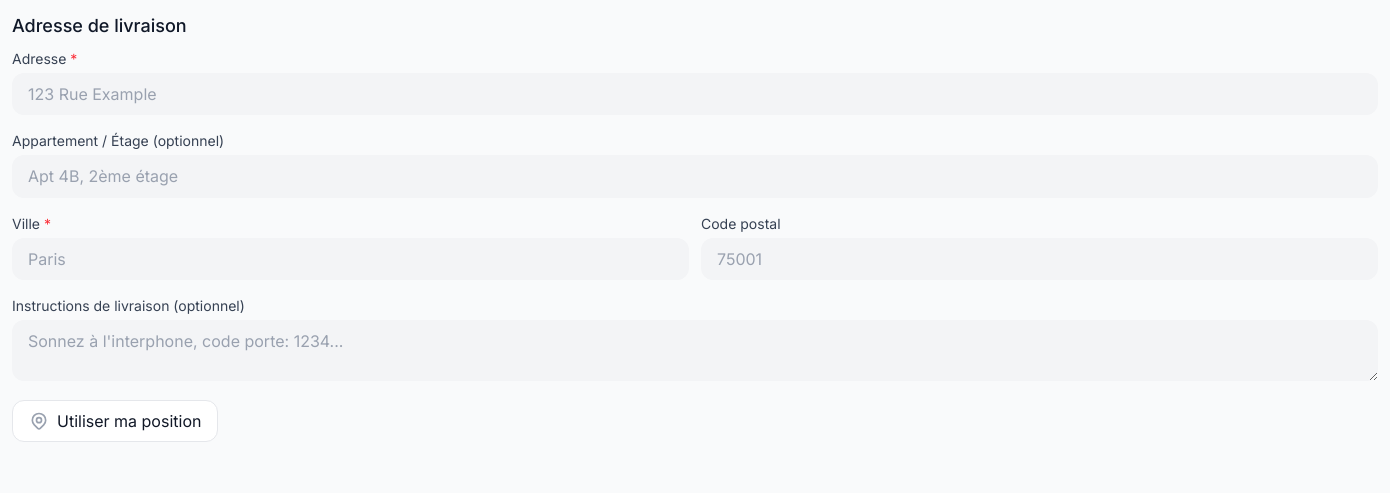
DeliveryAddressForm › geolocation › shows error when geolocation not supported
The image size is (1390, 493).
Click the button "Utiliser ma position": (115, 421) [12,400,218,442]
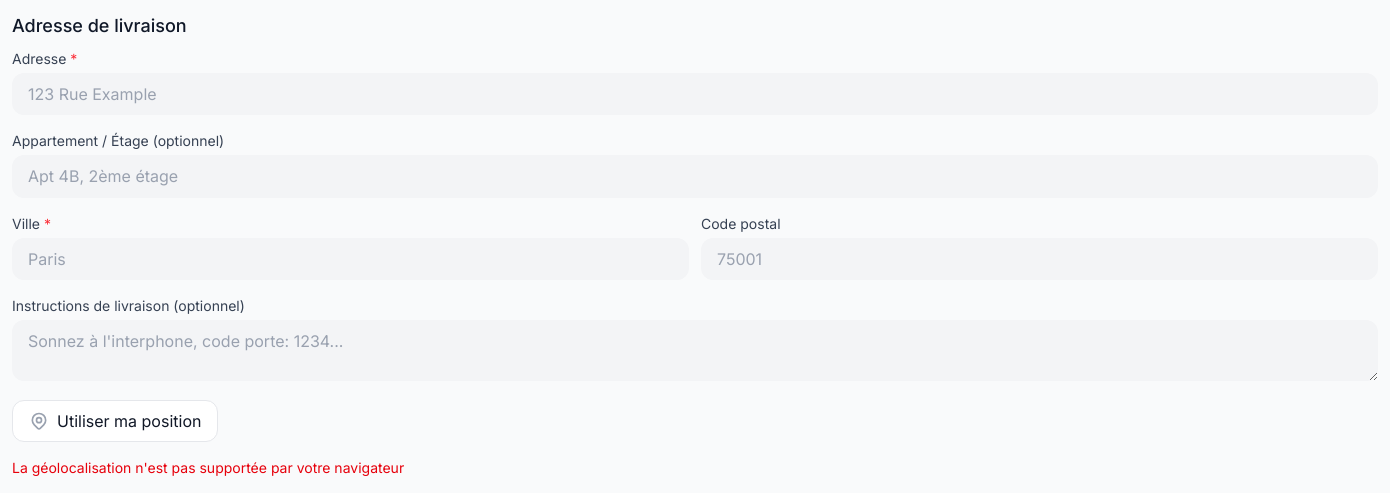
Result: the text "La géolocalisation n'est pas supportée par votre navigateur" is shown at [12,459,404,476]
